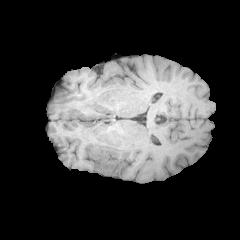glioma: (91, 142, 130, 177)
